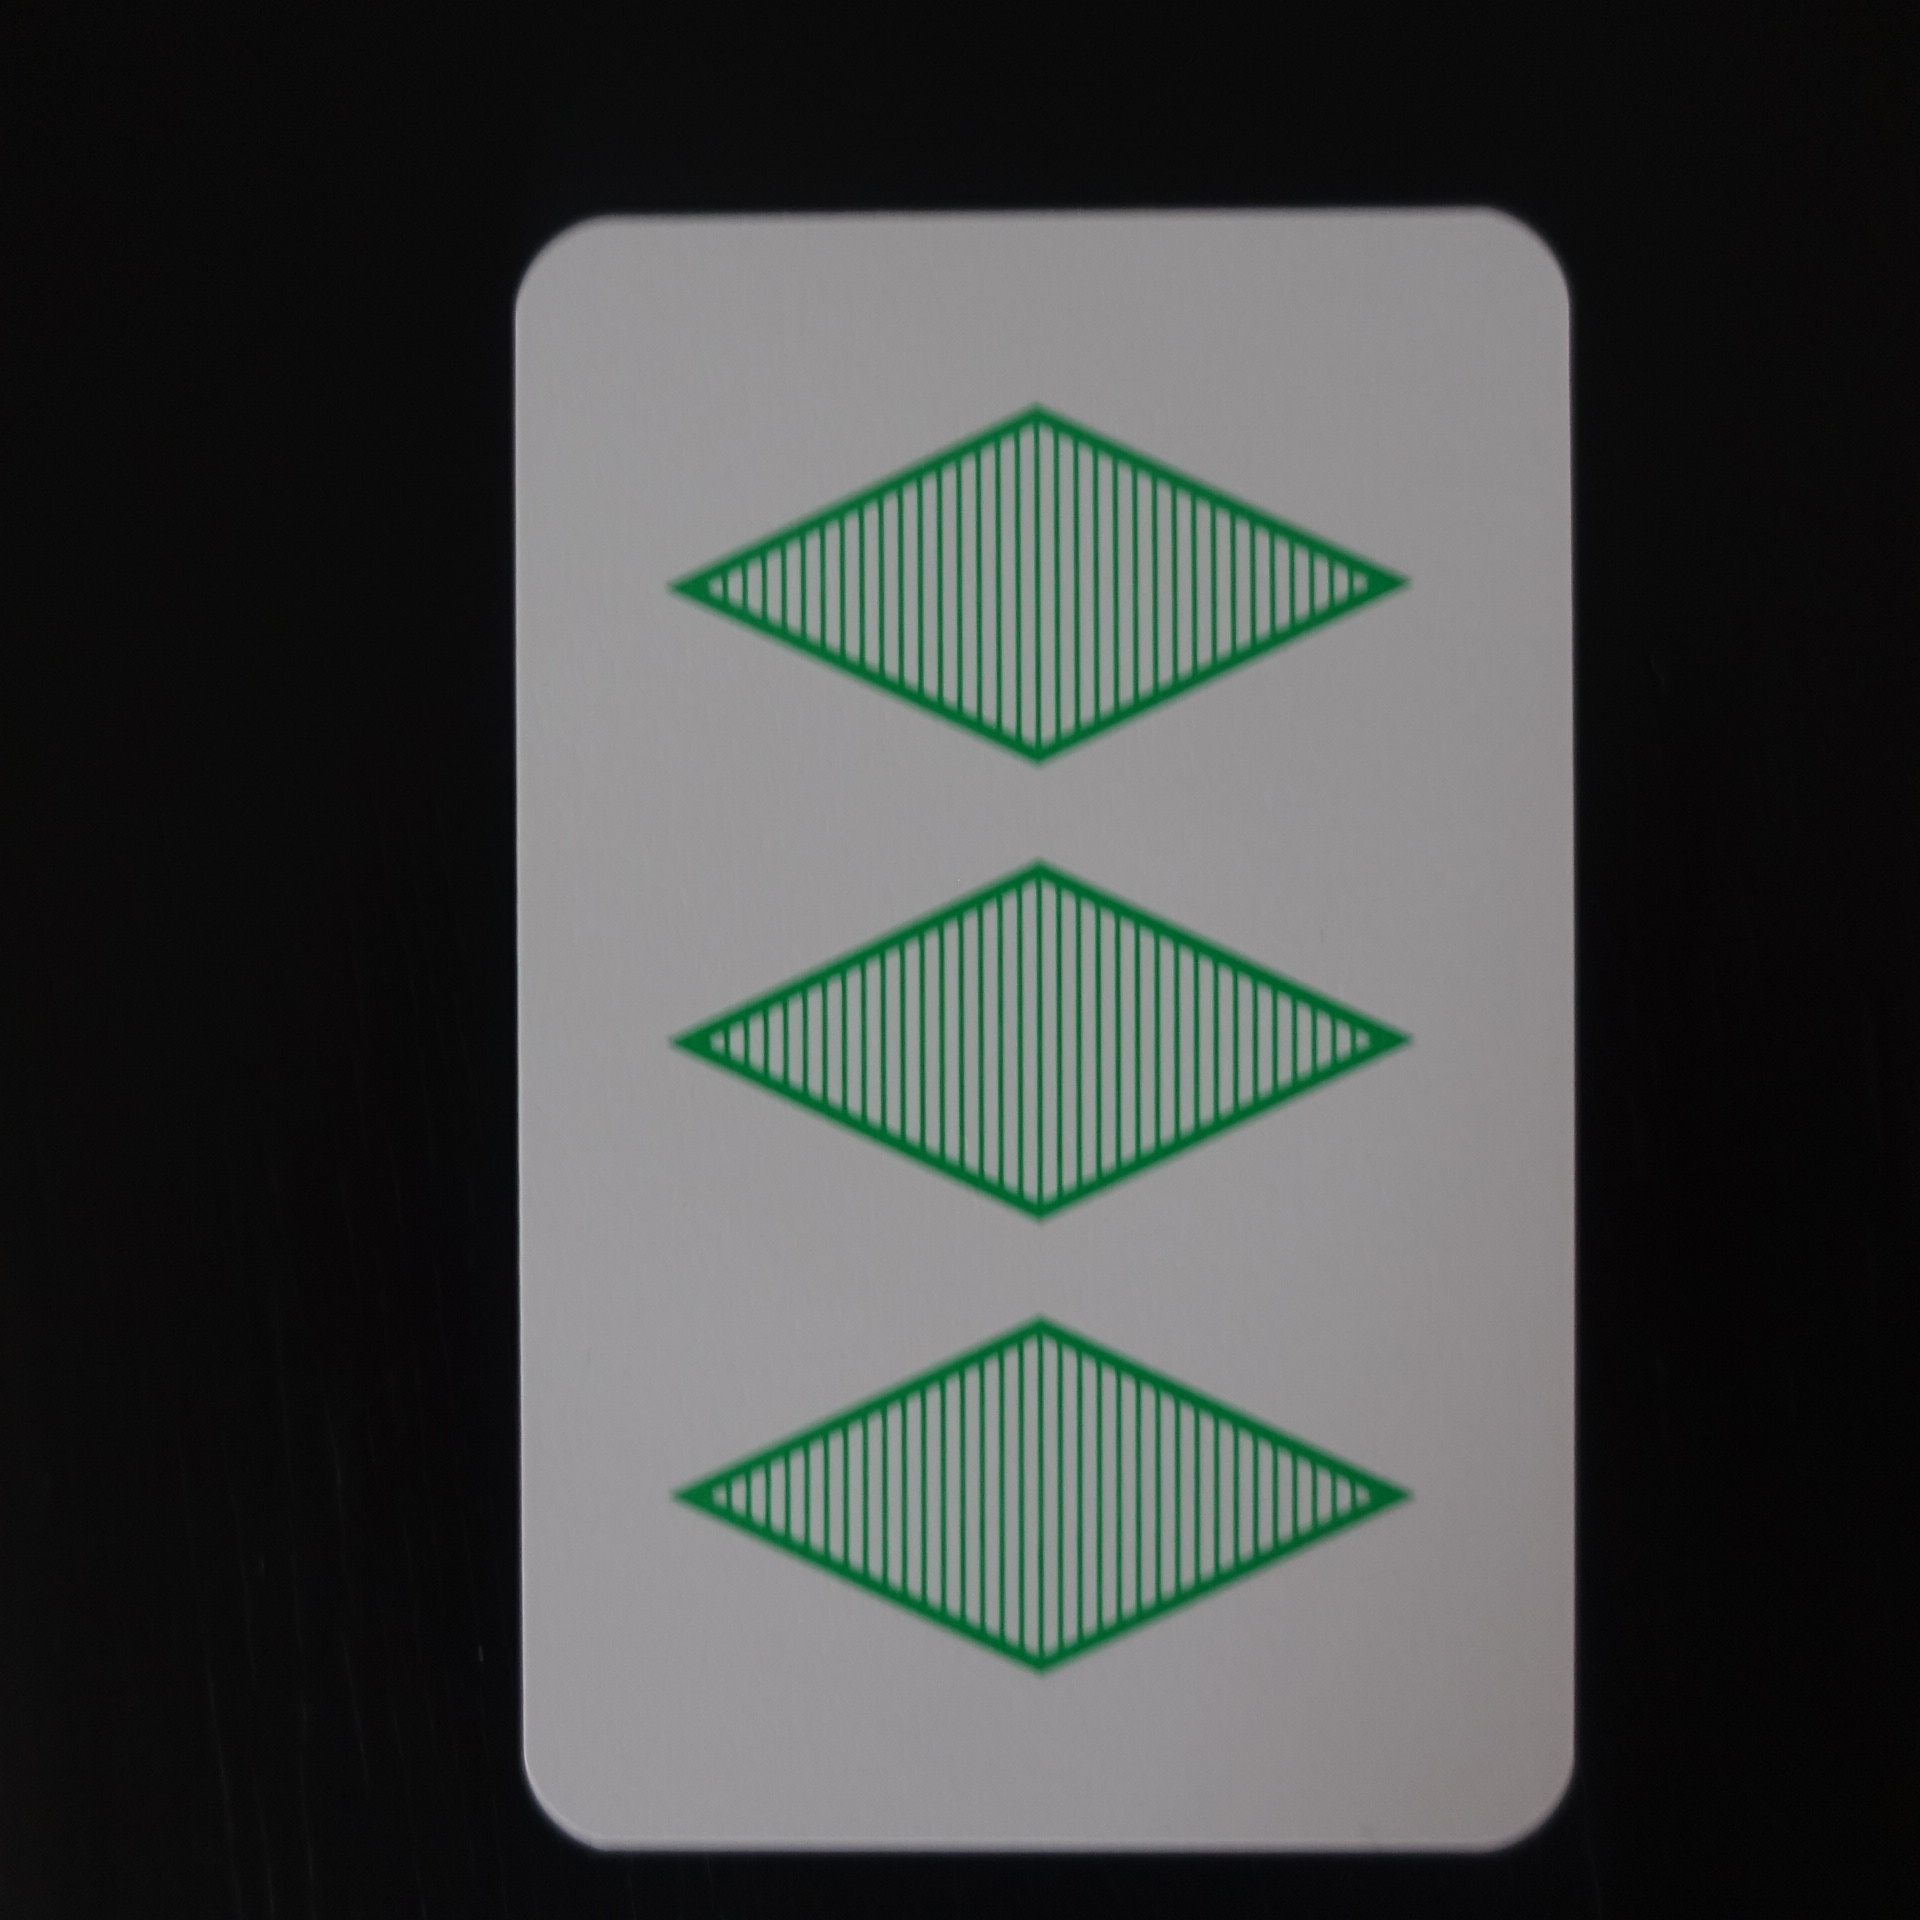c-2-f-d-r: (473, 195, 1605, 1871)
